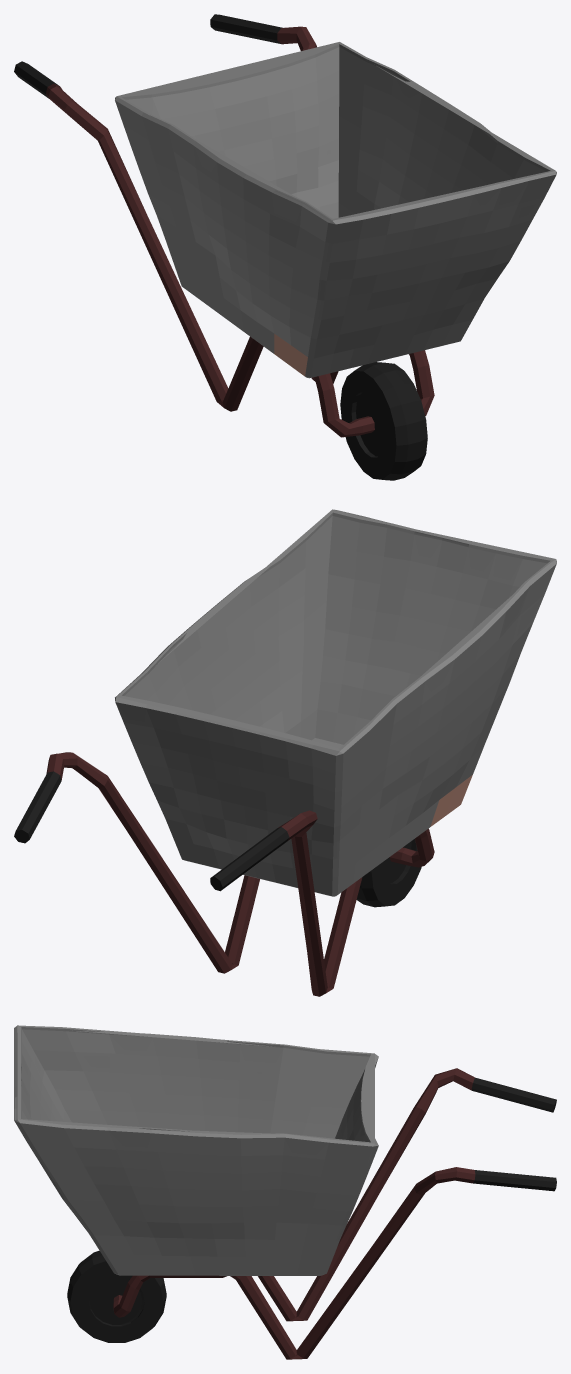
The model's file is Wheelbarrow.fbx.
The picture shows the model from 3 angles, top to bottom: view 1: azimuth 30°, elevation 25°; view 2: azimuth 150°, elevation 25°; view 3: azimuth 270°, elevation 25°; orthographic projection. The views are drawn at different scales.
Parts seen in each view (by area): view 1: Wheelbarrow; view 2: Wheelbarrow; view 3: Wheelbarrow.
Part boxes in pixels (bbox=[...]): Wheelbarrow: bbox=[14, 14, 556, 480]; Wheelbarrow: bbox=[14, 509, 556, 996]; Wheelbarrow: bbox=[14, 1025, 556, 1359].
Bounding box in the file's own units: 75.54 × 90.3 × 165.
Materials: 2 (2 with a texture image).
